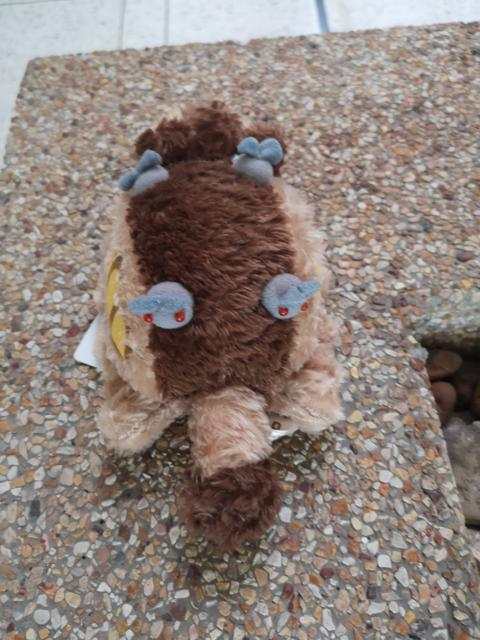nekobus: (85, 96, 351, 565)
